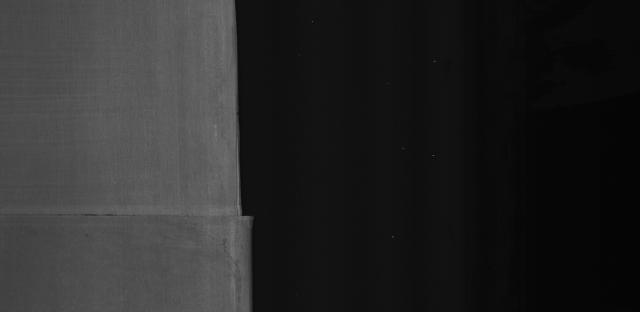welding_line: (3, 201, 261, 228)
